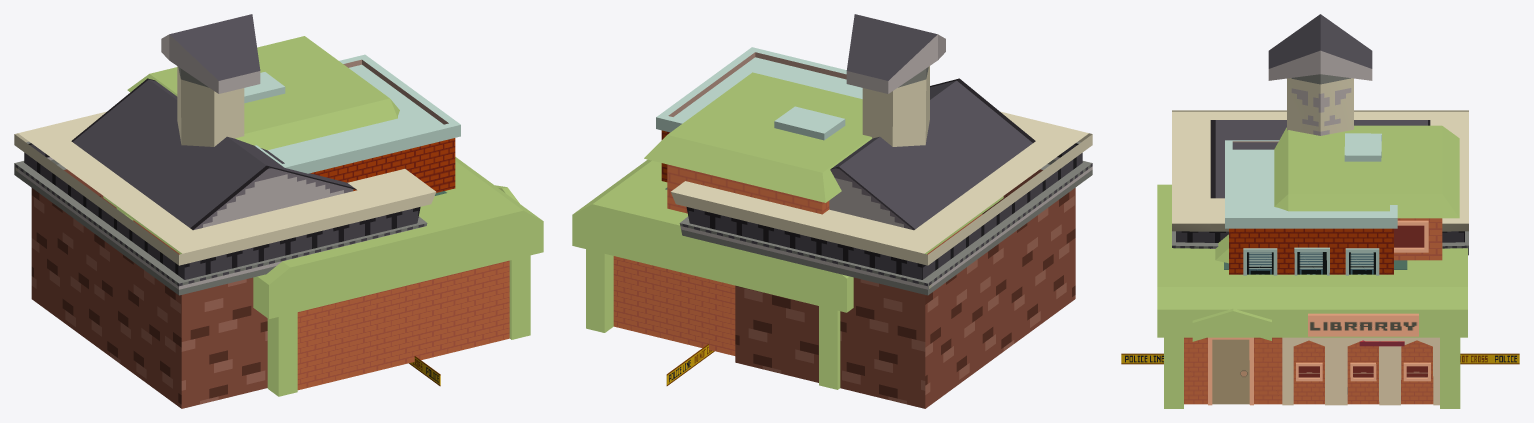
File: town assets.glb
3 views of the same model, side by side, from view 1: azimuth 30°, elevation 25°; view 2: azimuth 150°, elevation 25°; view 3: azimuth 270°, elevation 25° (orthographic). The views are drawn at different scales.
Parts seen in each view (by area): view 1: townhall, library, cube house; view 2: townhall, library, cube house, police tape long; view 3: library, townhall, cube house, police tape long.
Boxes of the visible parts, x1=… form: townhall: x1=14, y1=14, x2=436, y2=408; library: x1=103, y1=36, x2=543, y2=396; cube house: x1=244, y1=54, x2=460, y2=192; townhall: x1=671, y1=14, x2=1092, y2=408; library: x1=572, y1=72, x2=1003, y2=389; cube house: x1=656, y1=47, x2=862, y2=182; police tape long: x1=666, y1=344, x2=711, y2=385; library: x1=1157, y1=125, x2=1467, y2=408; townhall: x1=1172, y1=14, x2=1468, y2=255; cube house: x1=1225, y1=133, x2=1397, y2=275; police tape long: x1=1121, y1=353, x2=1519, y2=364.
Size of the model in its own units: 18.66 by 15.72 by 19.71.
Materials: 14 (14 with a texture image).
